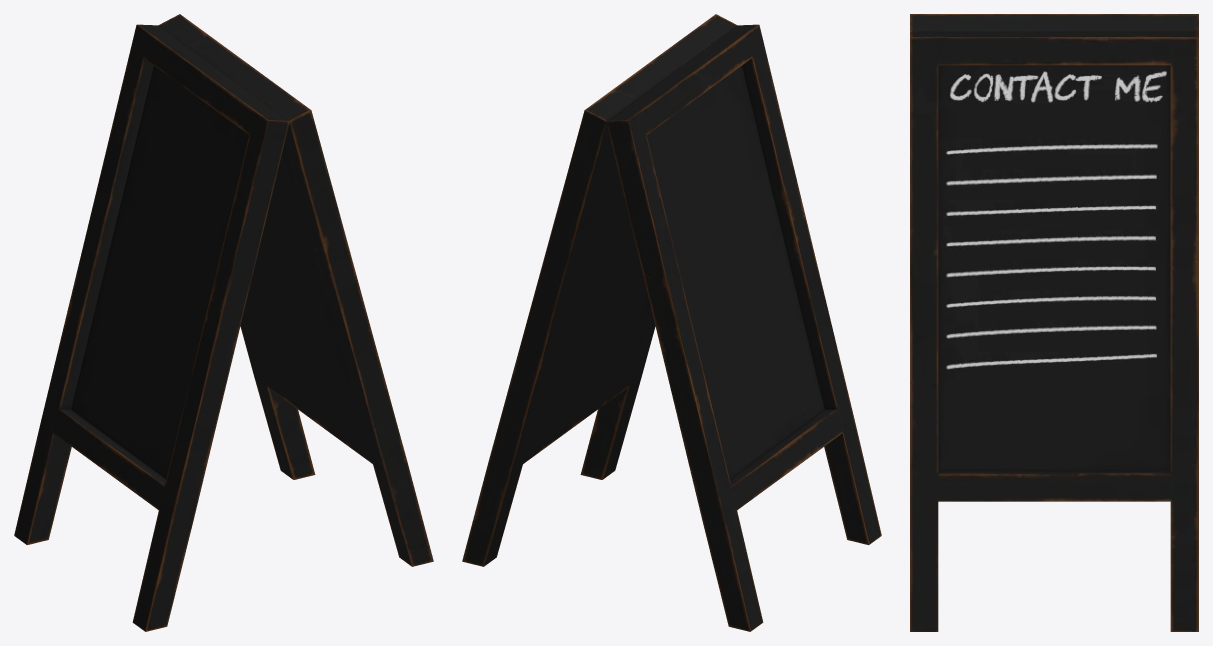
Rendered from contact_sign.glb.
3 views of the same model, side by side, from view 1: azimuth 30°, elevation 25°; view 2: azimuth 150°, elevation 25°; view 3: azimuth 270°, elevation 25° (orthographic). The views are drawn at different scales.
Parts seen in each view (by area): view 1: defaultMaterial; view 2: defaultMaterial; view 3: defaultMaterial.
Part boxes in pixels (left/top/right/bottom): defaultMaterial: left=14, top=14, right=433, bottom=631; defaultMaterial: left=462, top=14, right=881, bottom=631; defaultMaterial: left=910, top=14, right=1198, bottom=631.
Size of the model in its own units: 71.15 by 113 by 56.18.
Materials: 1 (1 with a texture image).
